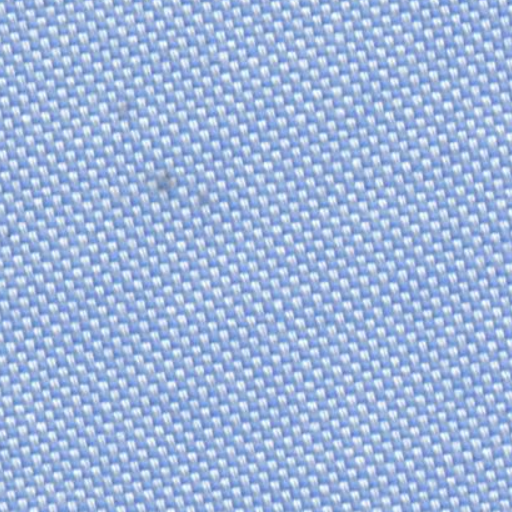WuZi: (141, 162, 213, 211)
